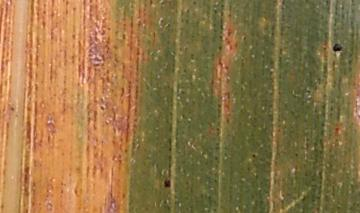tarspot: (331, 43, 342, 53), (163, 179, 172, 189)
